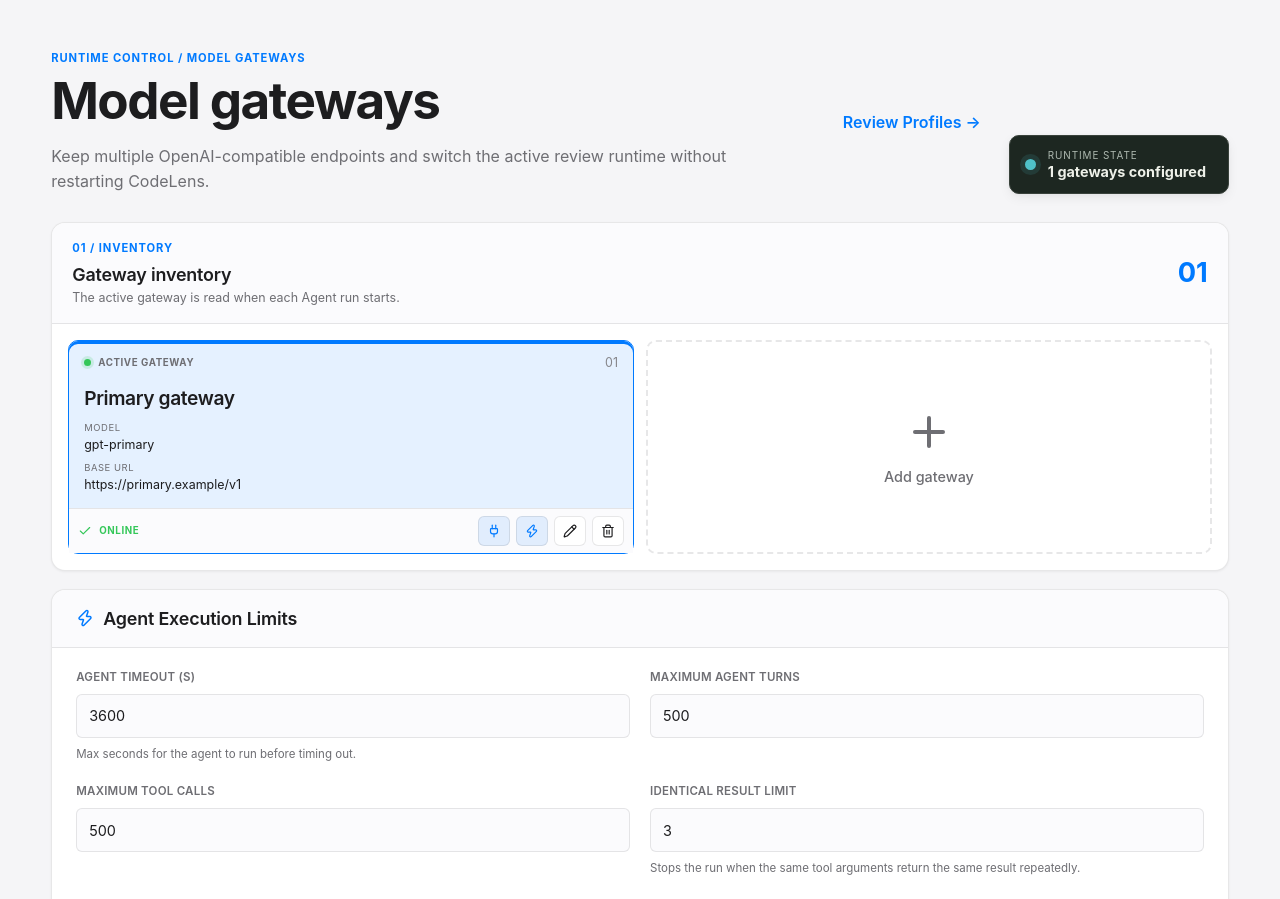
sends a connectivity test request when the test connectivity button is clicked
Click the button named "Test connectivity Primary gateway" at coordinates (494, 530), box [478, 516, 510, 546]
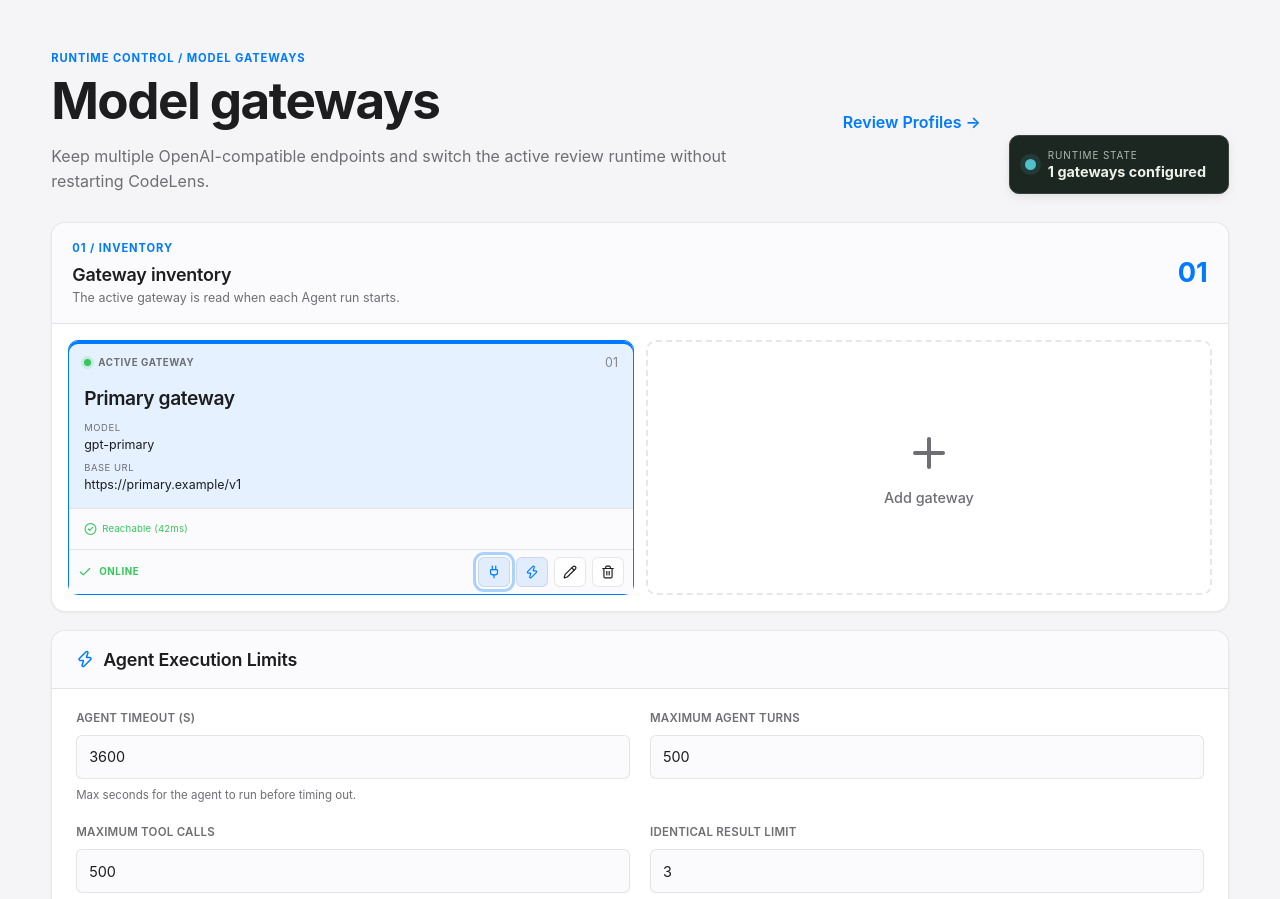
Now the text "Reachable (42ms)" is shown, box [84, 516, 188, 540]
